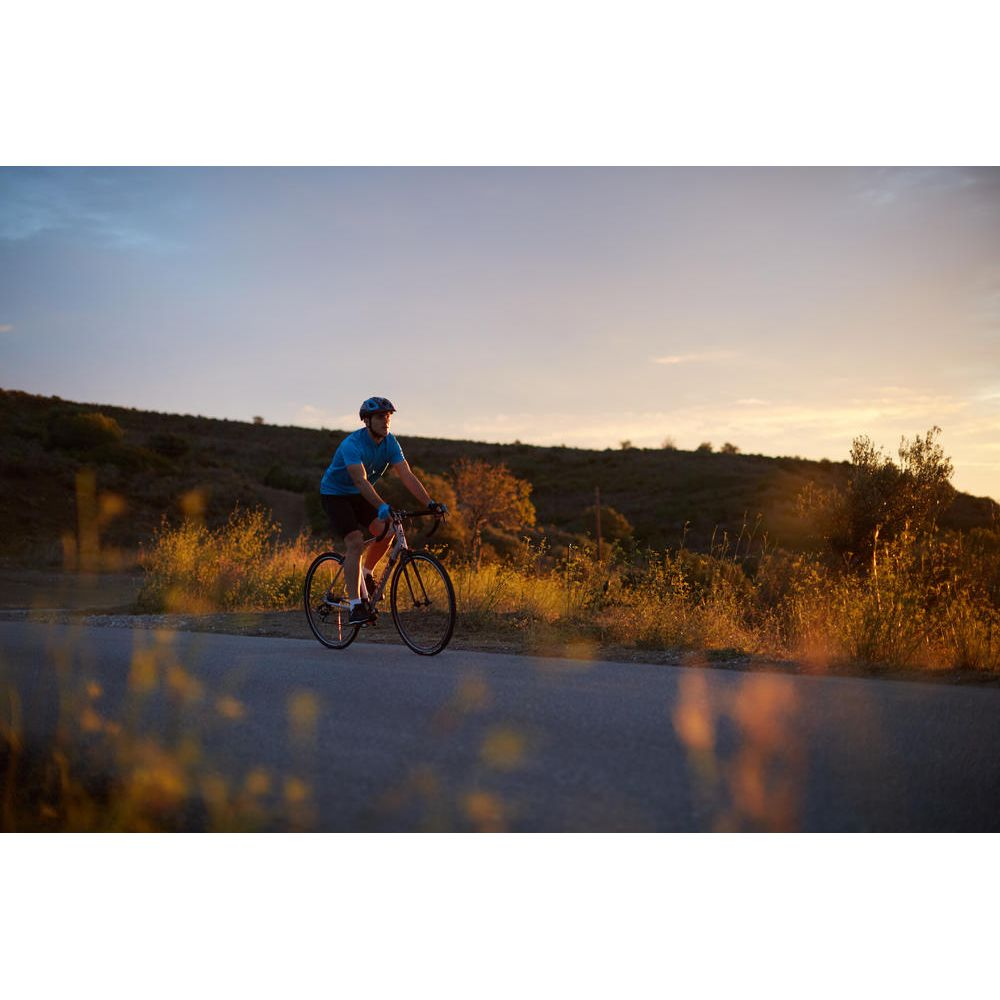RoadBike: (18, 86, 983, 885)
